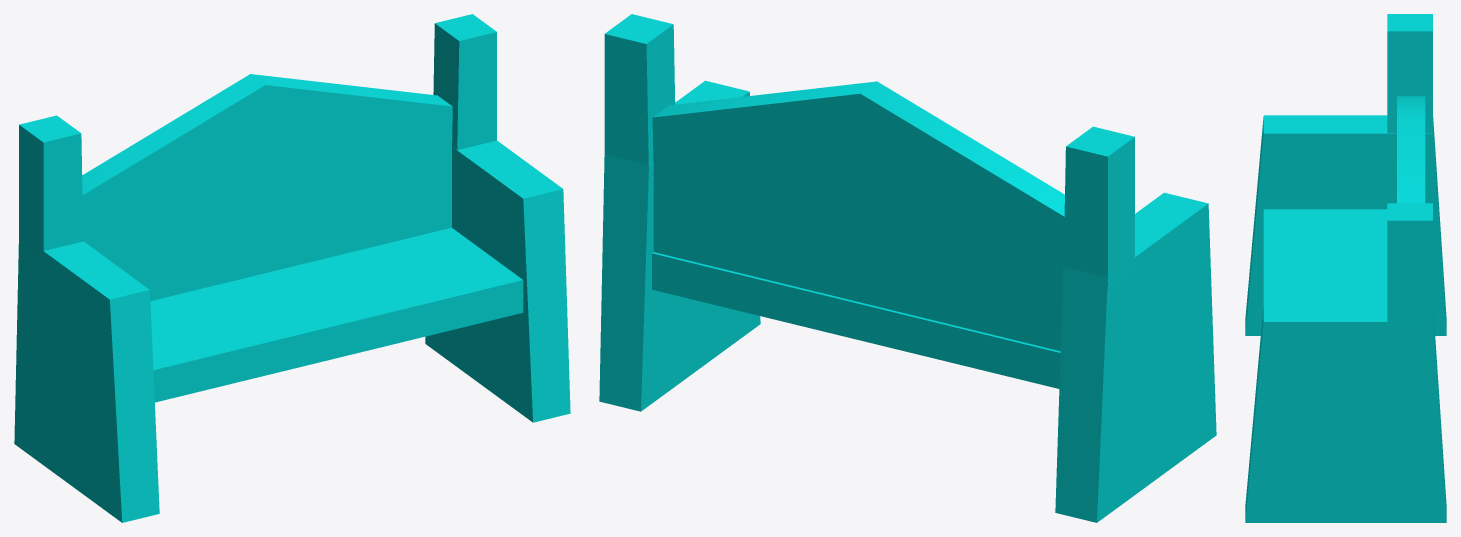
File: SM_Prop_Bench_Seat_01_Collision.fbx
3 renders of one model, left to right at view 1: azimuth 30°, elevation 25°; view 2: azimuth 150°, elevation 25°; view 3: azimuth 270°, elevation 25°, orthographic. The views are drawn at different scales.
Parts seen in each view (by area): view 1: SM_Prop_Bench_Seat_01_Collision; view 2: SM_Prop_Bench_Seat_01_Collision; view 3: SM_Prop_Bench_Seat_01_Collision.
Boxes of the visible parts, box(x1,y1,x2,y2) form: SM_Prop_Bench_Seat_01_Collision: box(14, 14, 570, 522); SM_Prop_Bench_Seat_01_Collision: box(599, 14, 1216, 522); SM_Prop_Bench_Seat_01_Collision: box(1245, 14, 1446, 522).
Size of the model in its own units: 162 by 111 by 66.67.
